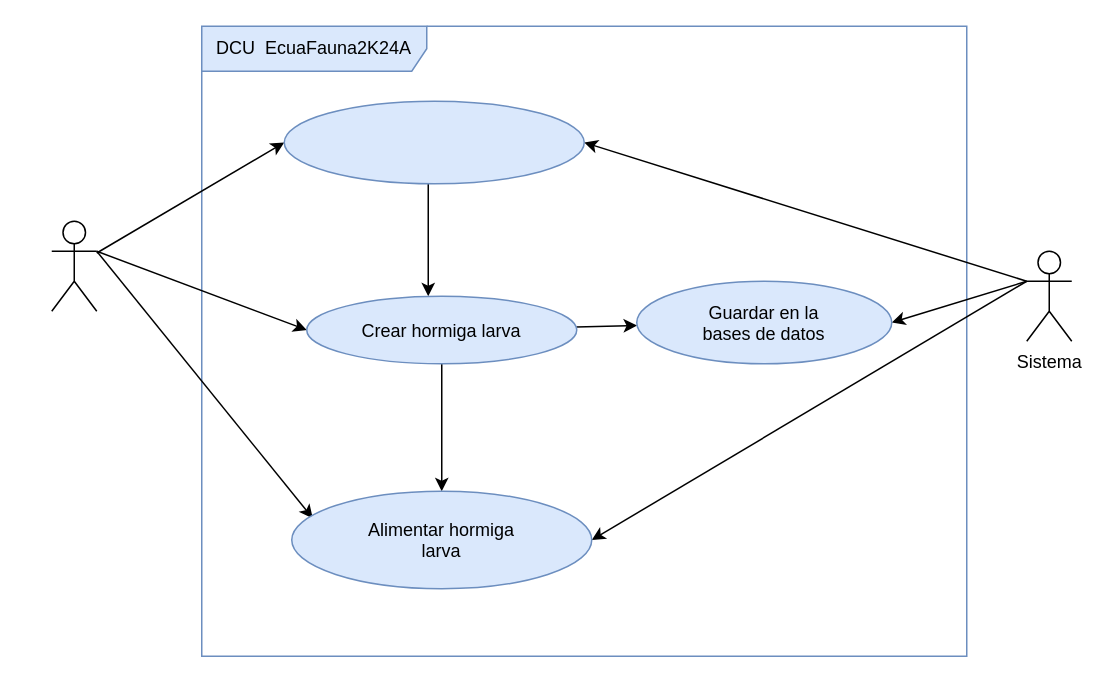
Some shapes in this 1107 by 683 pixel diagram are drawn without their labels. Here are the shapes that lost their labels. From the top down, the centre of each, then its label:
point (433, 142): Visualizar hormiguero virtual
point (73, 265): Entomologo
